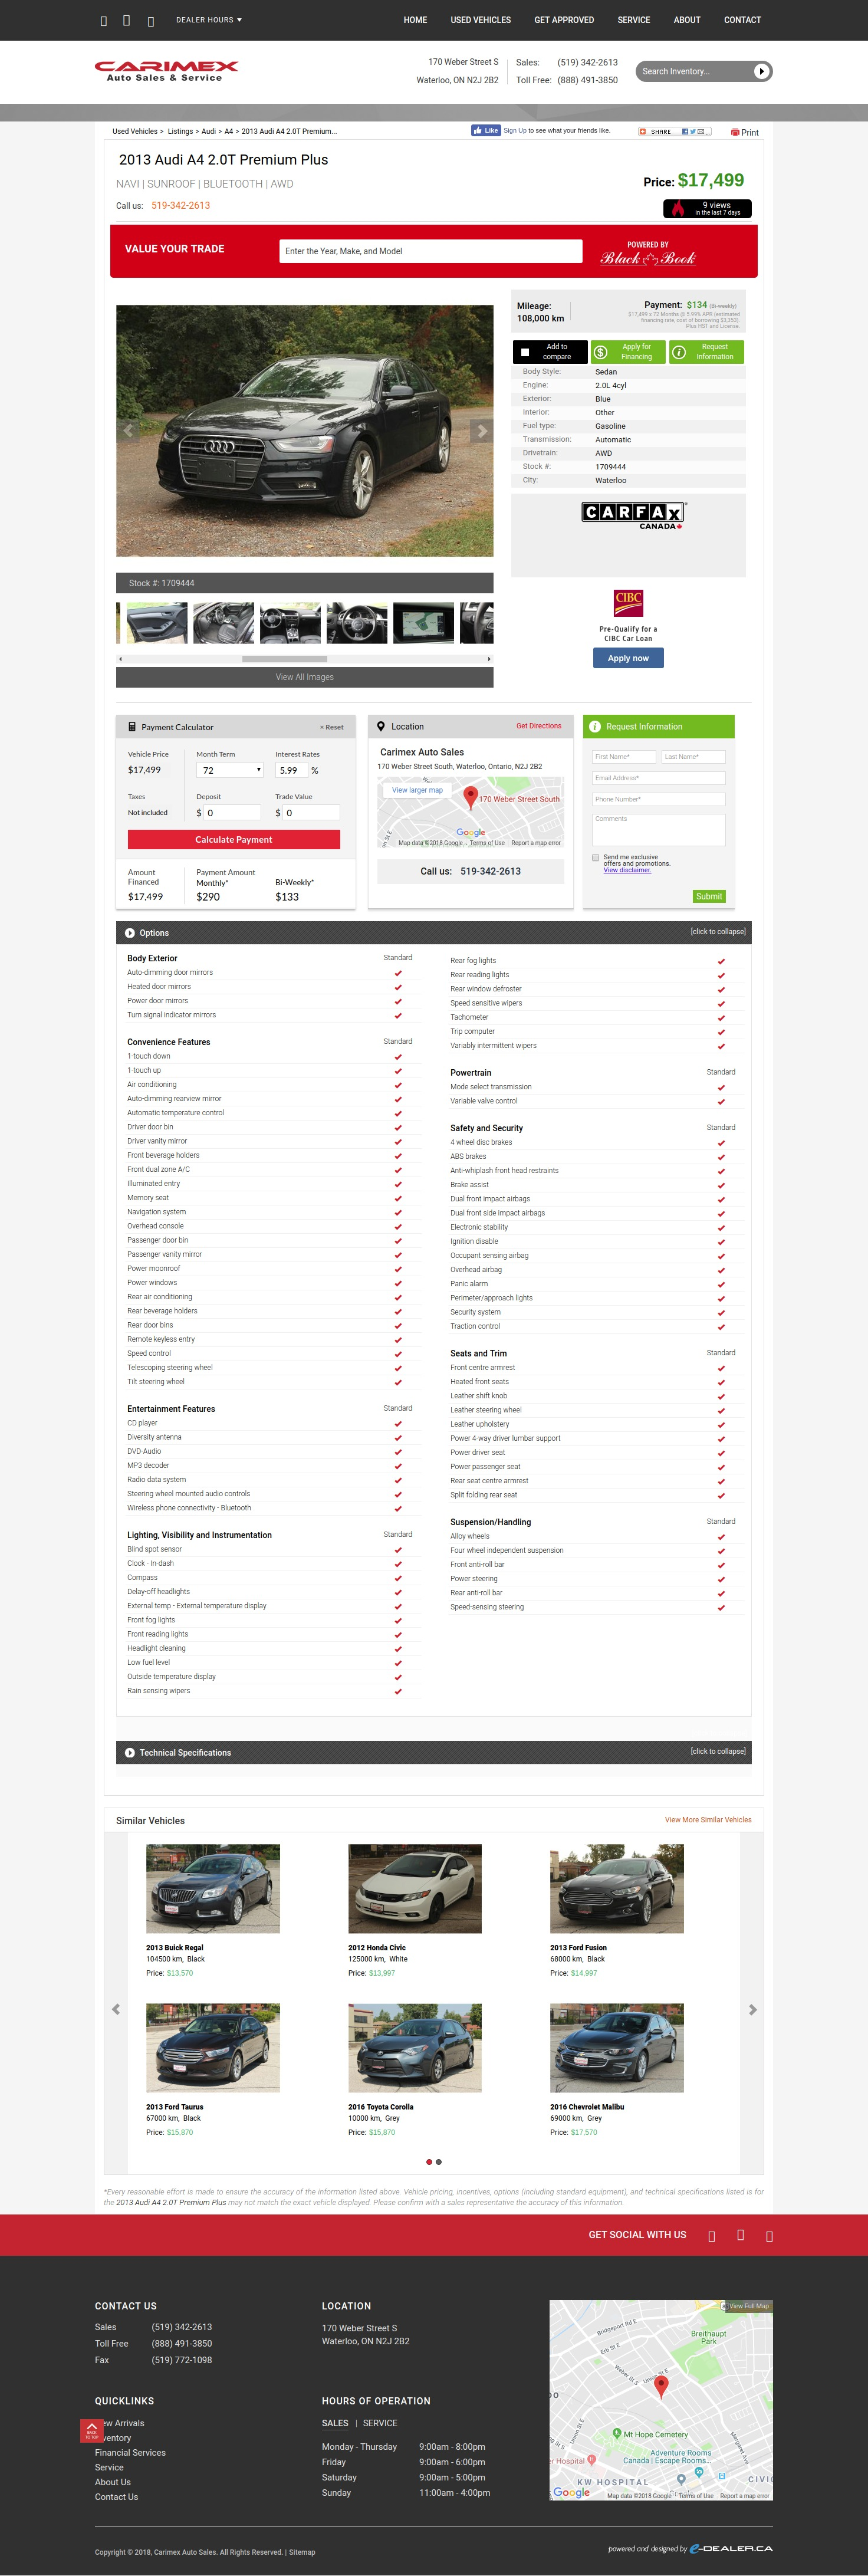car: (470, 421, 495, 444)
